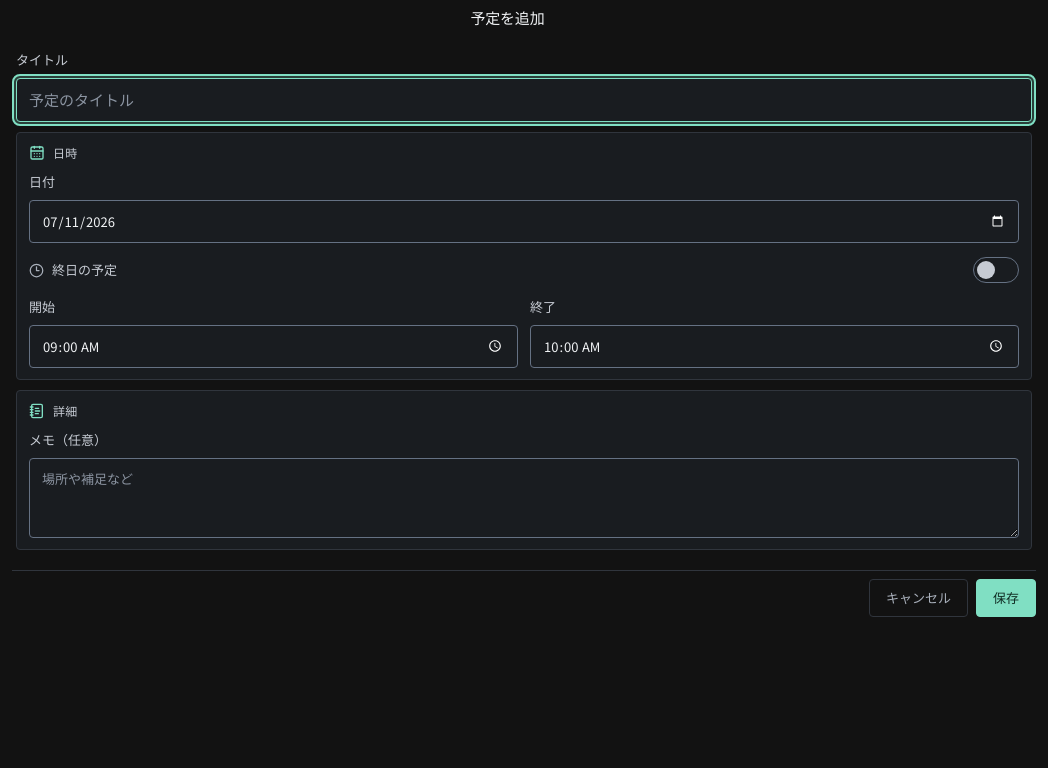
Test: CalendarEventEditor › prevents closing while a save is still in progress
The image size is (1048, 768).
Type "保存中の予定" into the field labelled "タイトル".
click(524, 100); type("保存中の予定")  # box x1=16 y1=78 x2=1032 y2=122
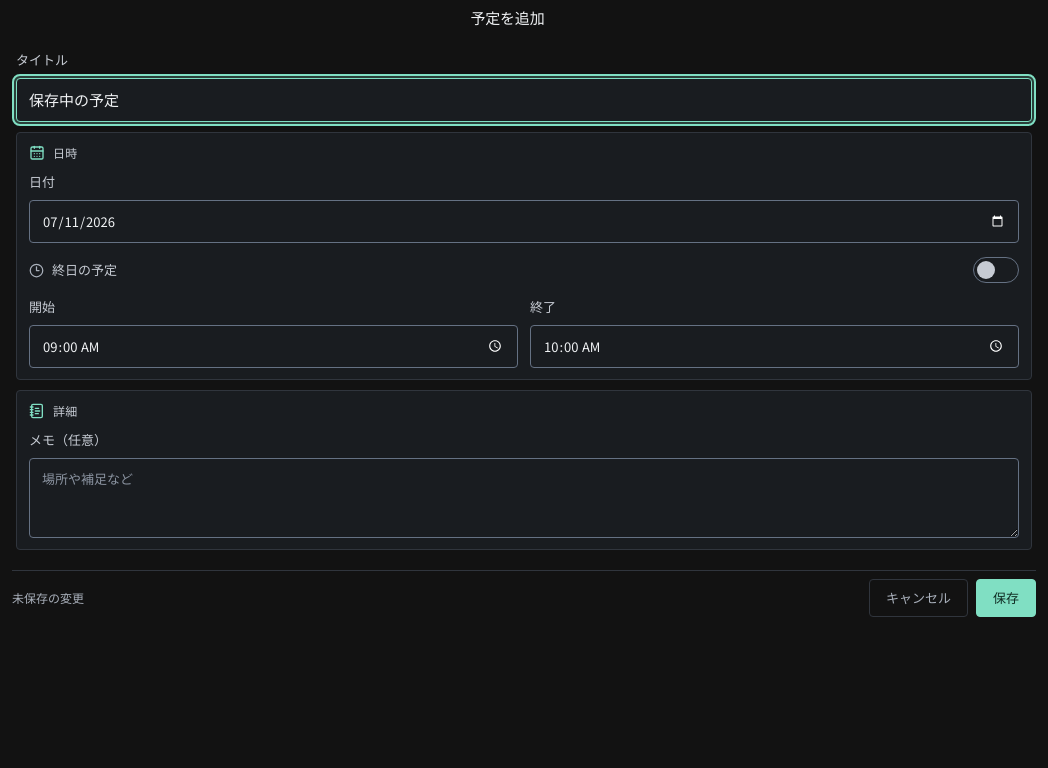
Click the button "保存".
click(1006, 598)  # box x1=976 y1=579 x2=1036 y2=616
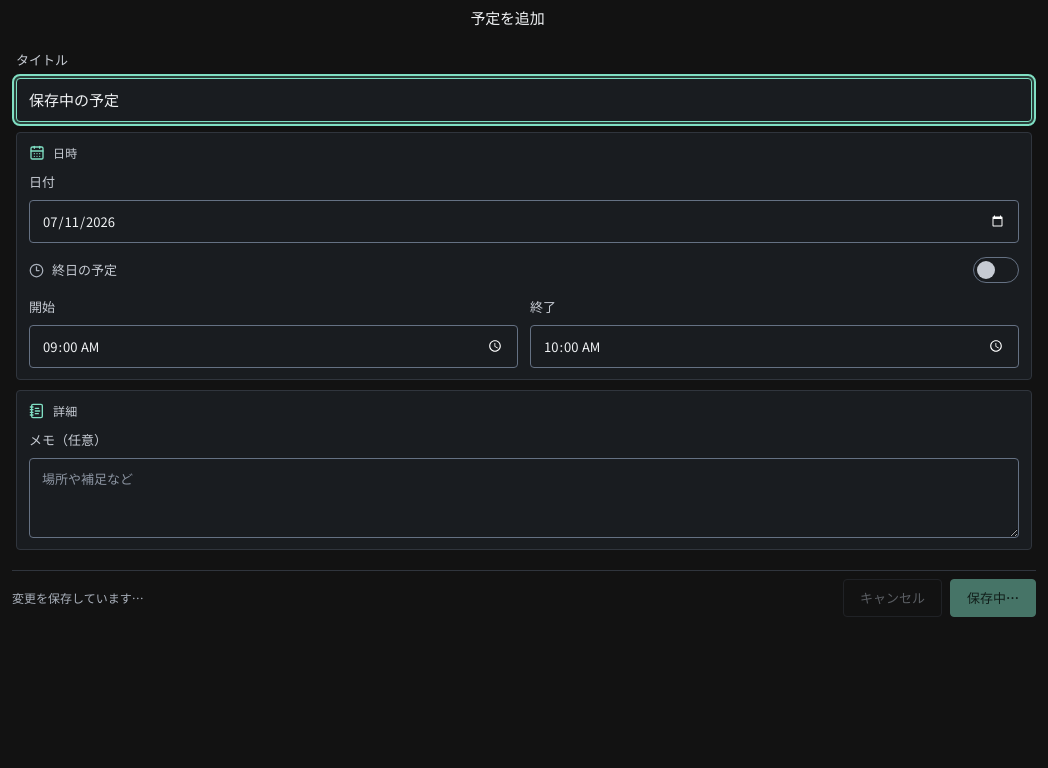
Check: the button "キャンセル" is disabled
Click the button "キャンセル".
click(892, 598)  # box x1=843 y1=579 x2=942 y2=616
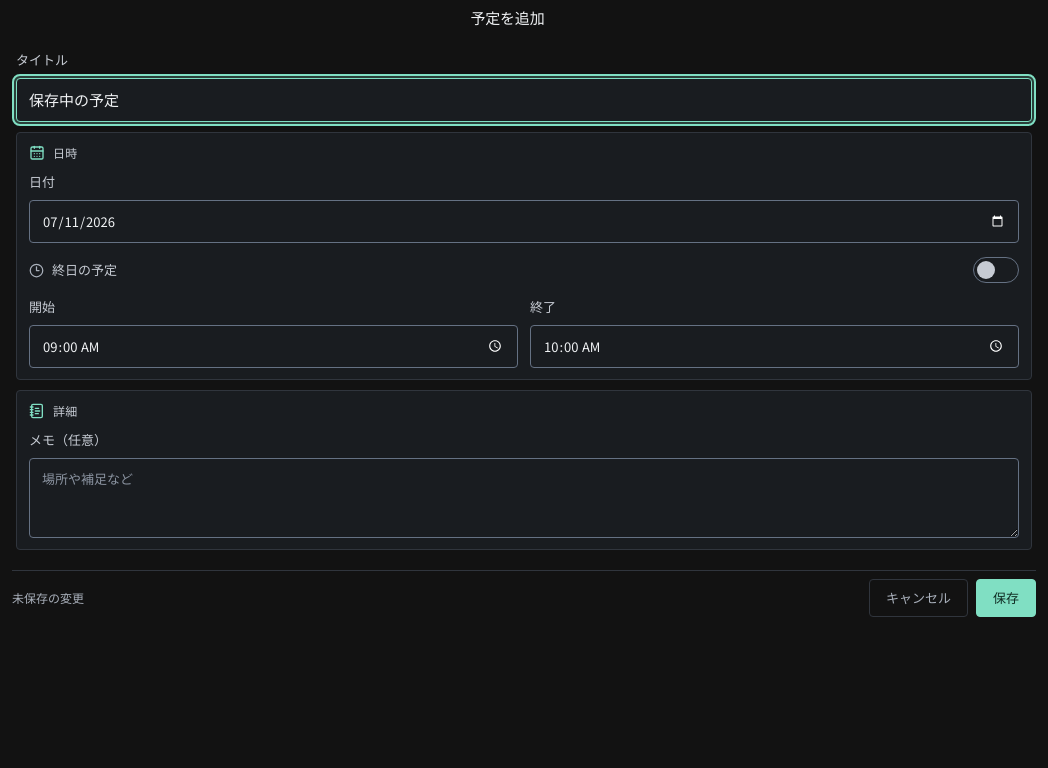
Check: the button "キャンセル" is enabled, box x1=869 y1=579 x2=968 y2=616
